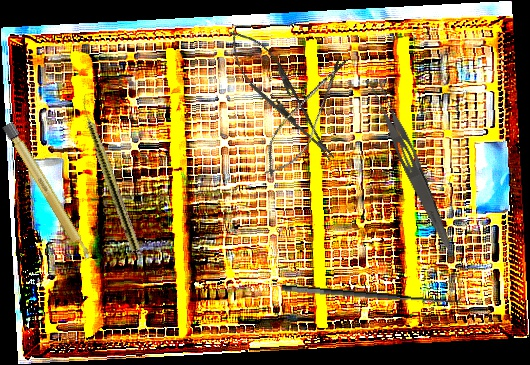Dressing Forceps: (363, 74, 461, 252)
Handpiece: (75, 93, 143, 253)
Hook Surgical: (281, 270, 462, 309)
Micro Scissor: (252, 46, 359, 187)
Needle Holder: (215, 19, 348, 172)
Scalpel Handle: (1, 121, 94, 263)
